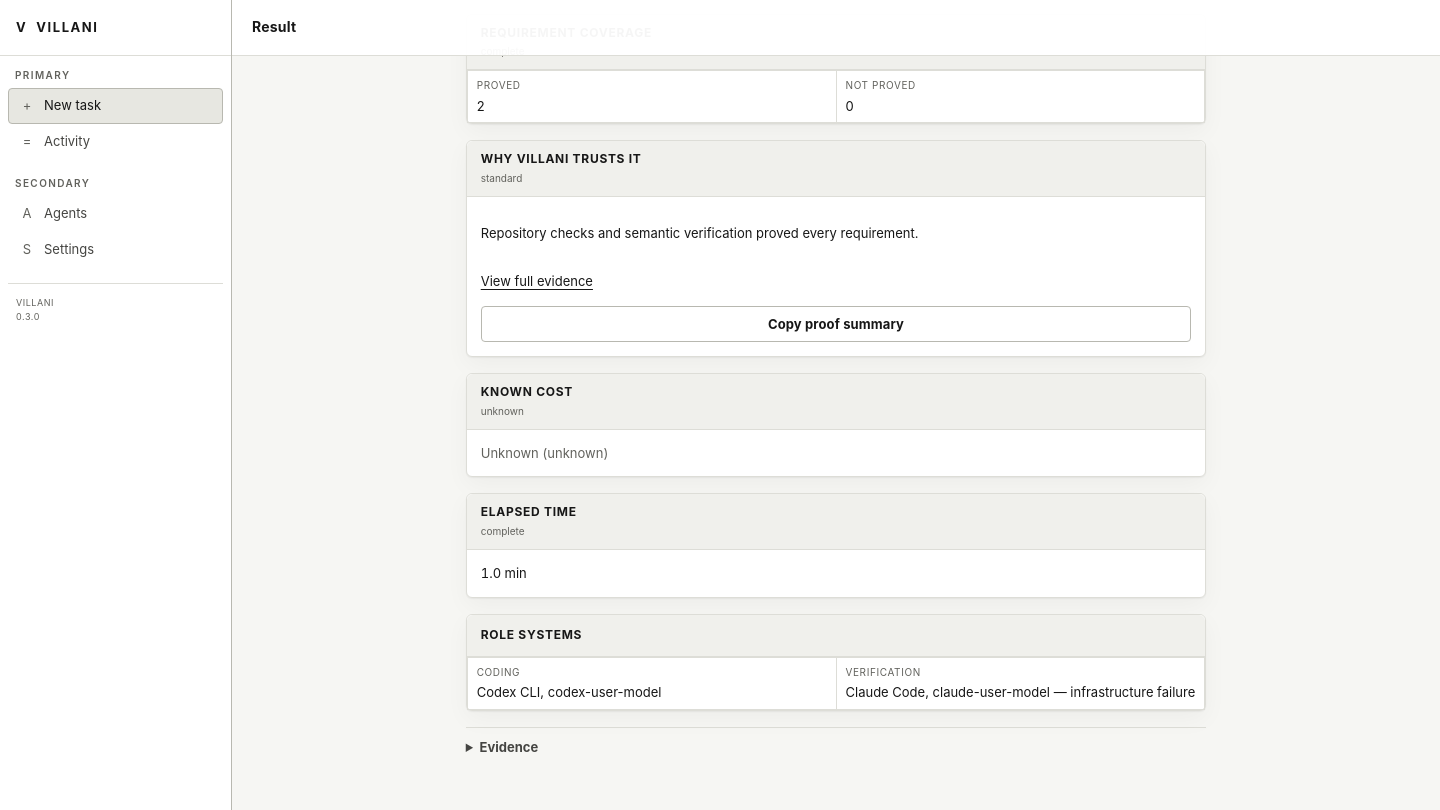
Test: Console run workflow › distinguishes role infrastructure failure and preserves unknown accounting
The width and height of the screenshot is (1440, 810).
(page scrolled)
Expected: the heading "ROLE SYSTEMS" is shown, left=481, top=626, right=582, bottom=644
Expected: the text "Unknown (unknown)" is shown, left=481, top=445, right=608, bottom=461
Click the heading "Evidence" at (509,747), box left=480, top=739, right=538, bottom=755
(page scrolled)
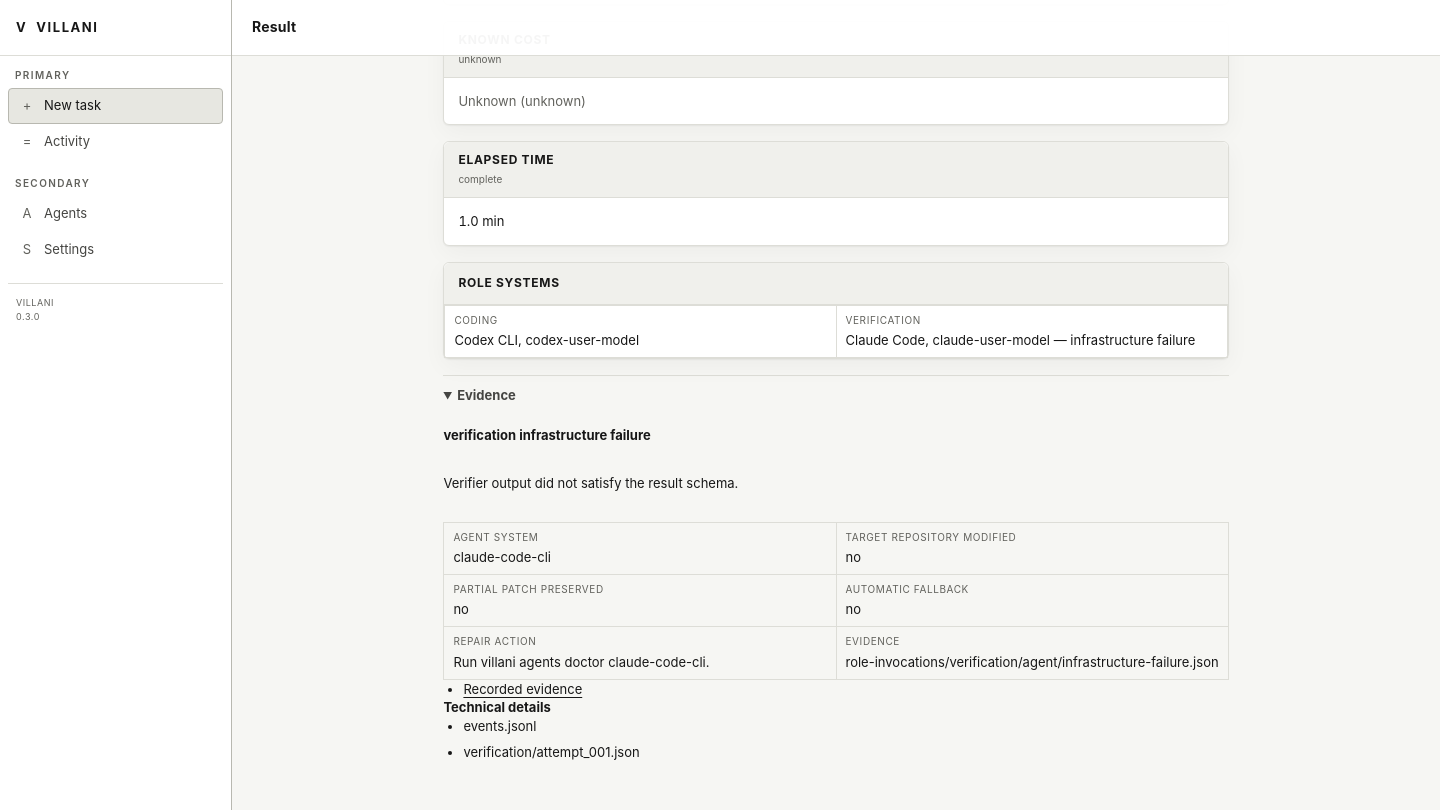
Expected: the text "Verifier output did not satisfy the result schema." is shown, left=443, top=475, right=738, bottom=491
Expected: the text "Target repository modified" is shown, left=846, top=531, right=1016, bottom=543
Expected: the text "Run villani agents doctor claude-code-cli." is shown, left=453, top=654, right=709, bottom=670
